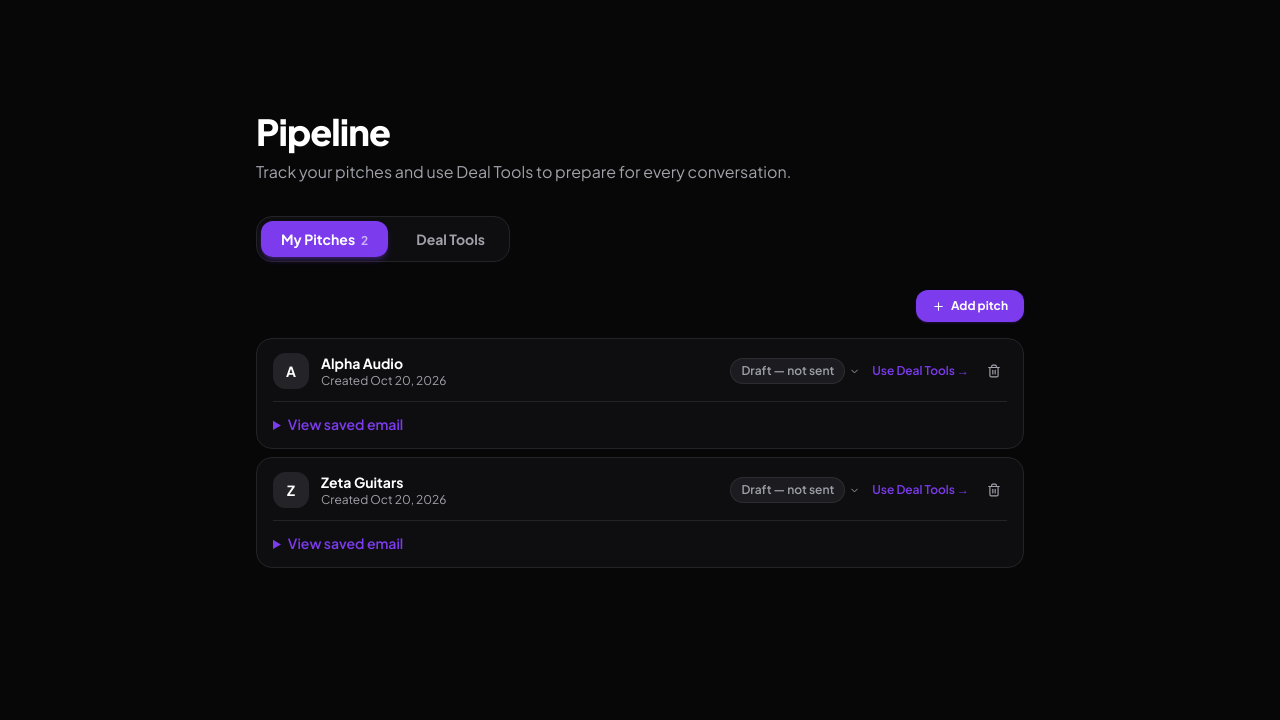
Test: deleting a saved pitch from the Pipeline › asks for confirmation, keeps the pitch on Cancel, and removes it on Delete
This screenshot has width=1280, height=720.
Expected: the text "Alpha Audio" is shown, [321, 354, 403, 372]
Step 1. Click the button with test id "button-delete-pitch-1" → (994, 371), box [981, 358, 1007, 384]
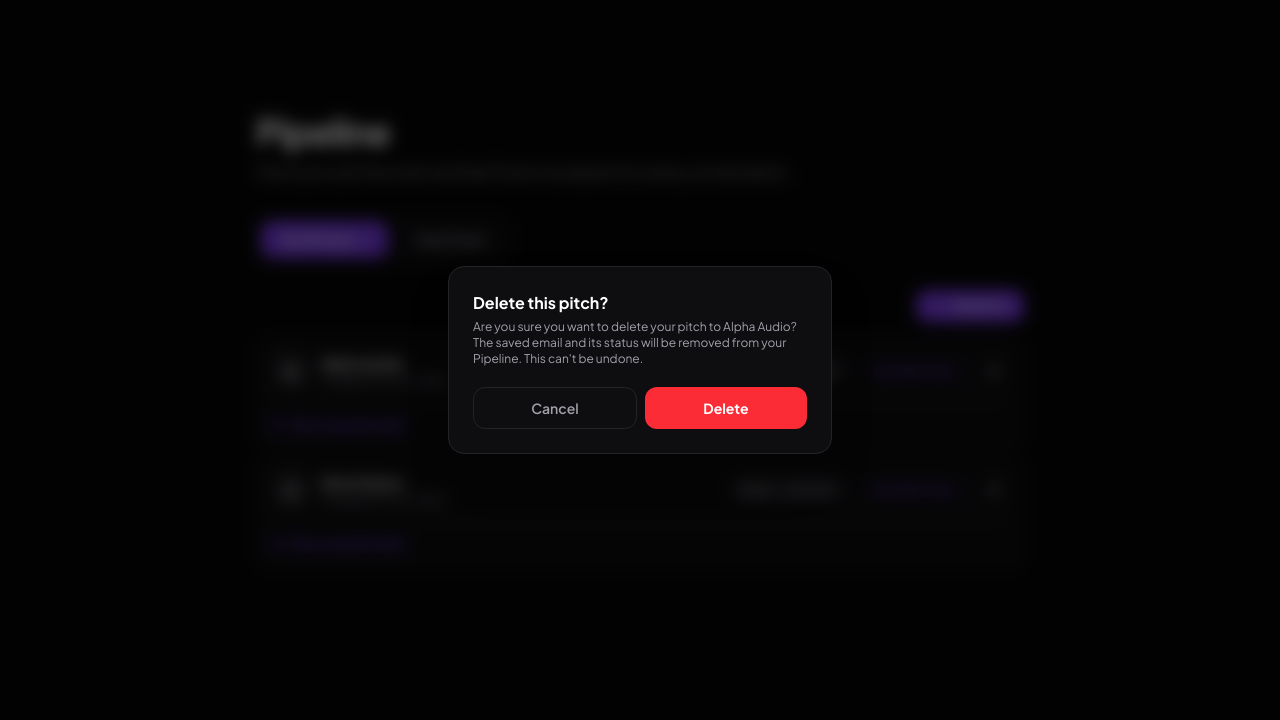
Expected: the dialog shows "Are you sure you want to delete your pitch to Alpha Audio?"
Step 2. Click the button "Cancel" → (555, 408), box [473, 387, 637, 429]
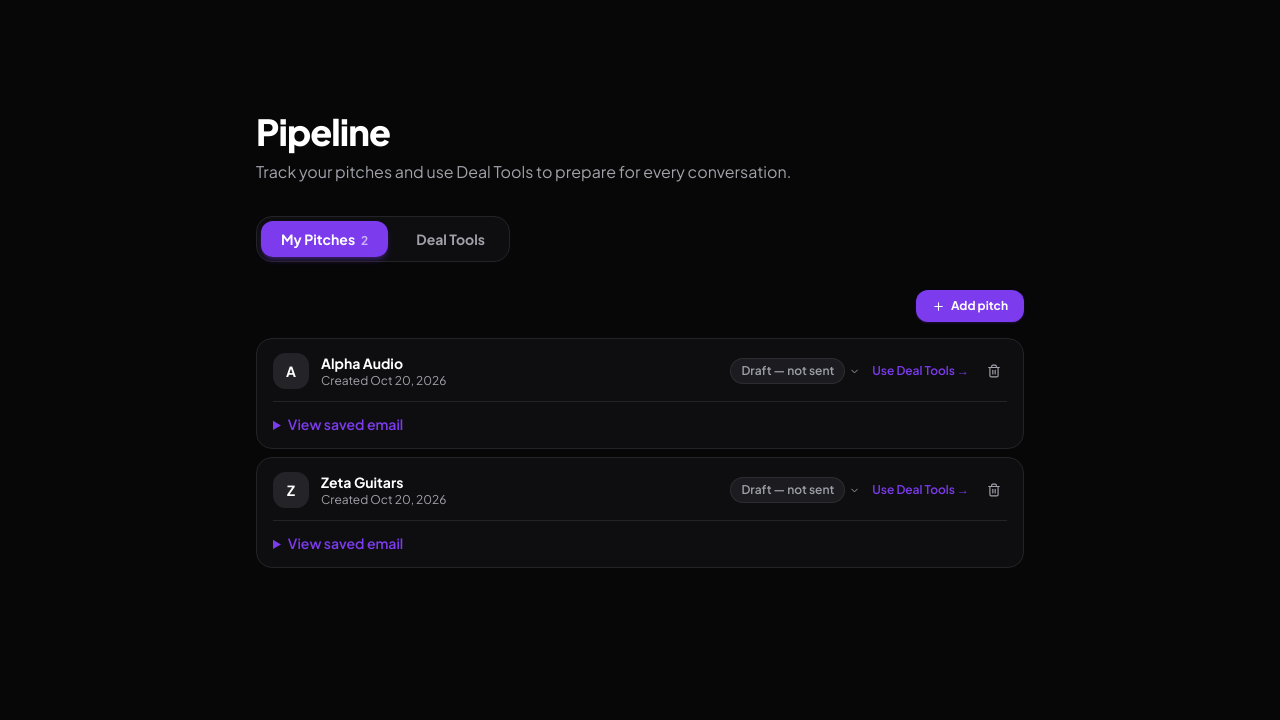
Expected: the text "Alpha Audio" is shown, [321, 354, 403, 372]
Expected: the dialog is gone
Step 3. Click the button with test id "button-delete-pitch-1" → (994, 371), box [981, 358, 1007, 384]
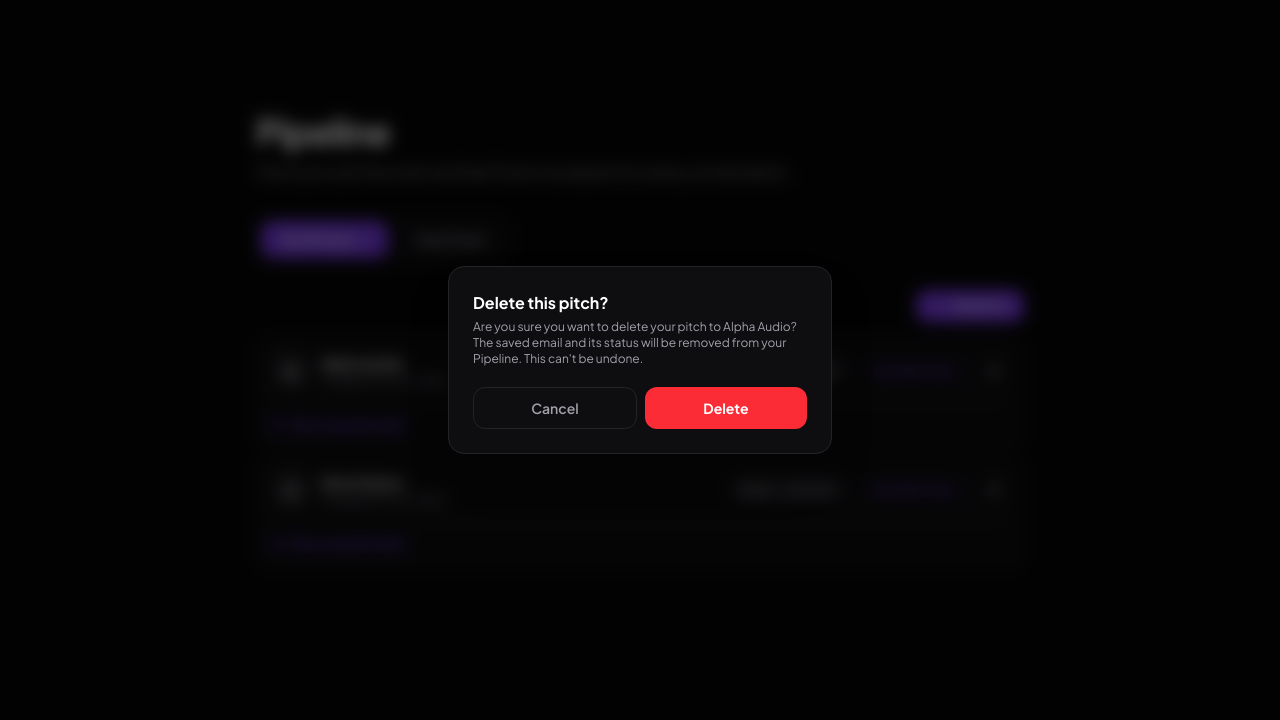
Step 4. Click the button with test id "button-confirm-delete-pitch" → (726, 408), box [645, 387, 807, 429]
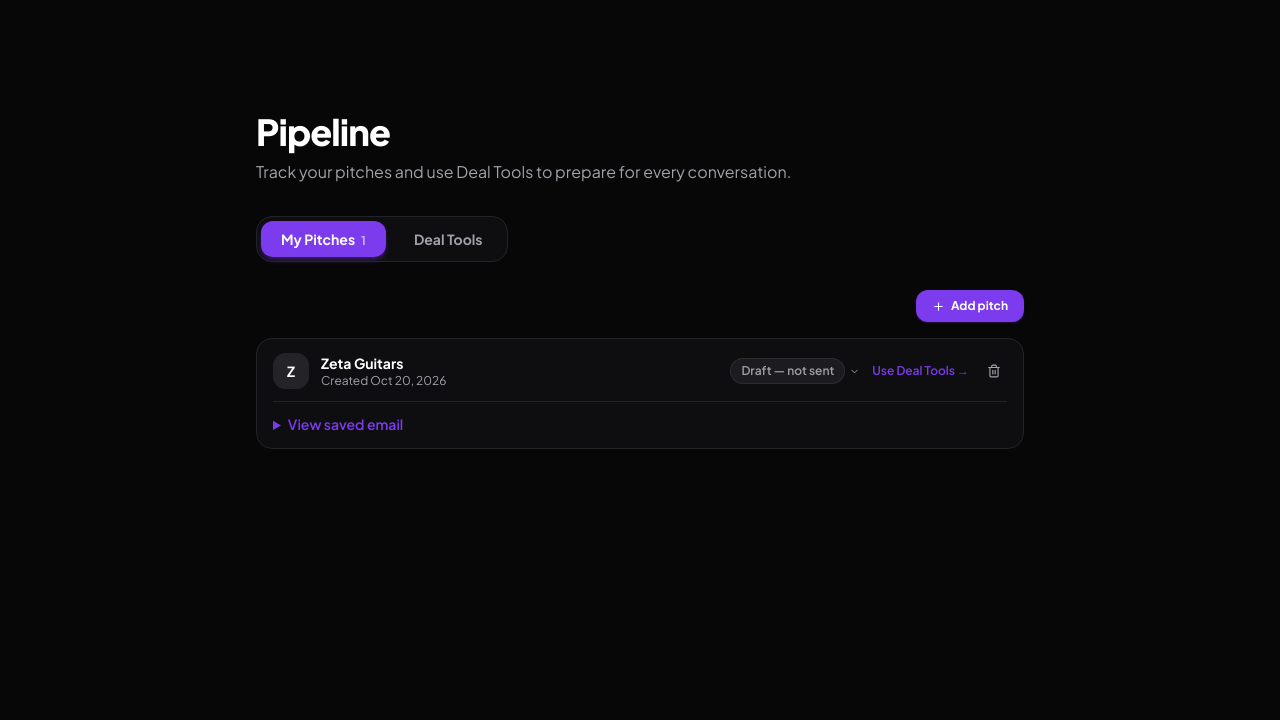
Expected: the text "Zeta Guitars" is shown, [321, 354, 403, 372]
Expected: the text "Alpha Audio" is gone
Expected: the dialog is gone
